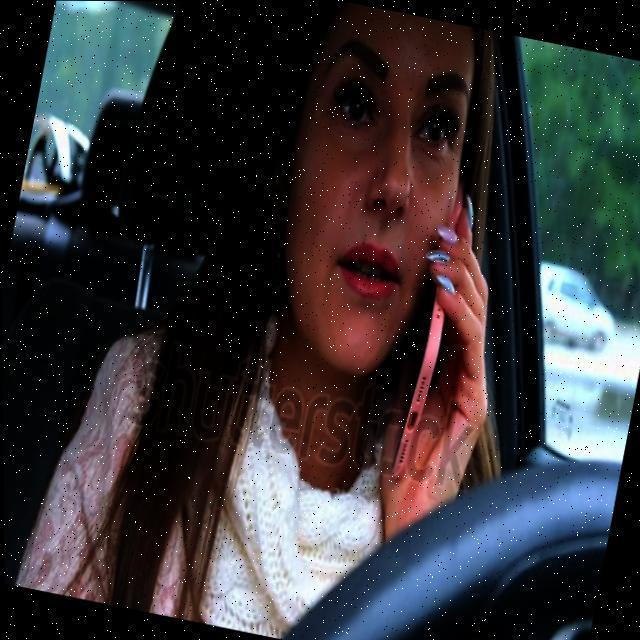PhoneCall: (386, 160, 480, 485)
